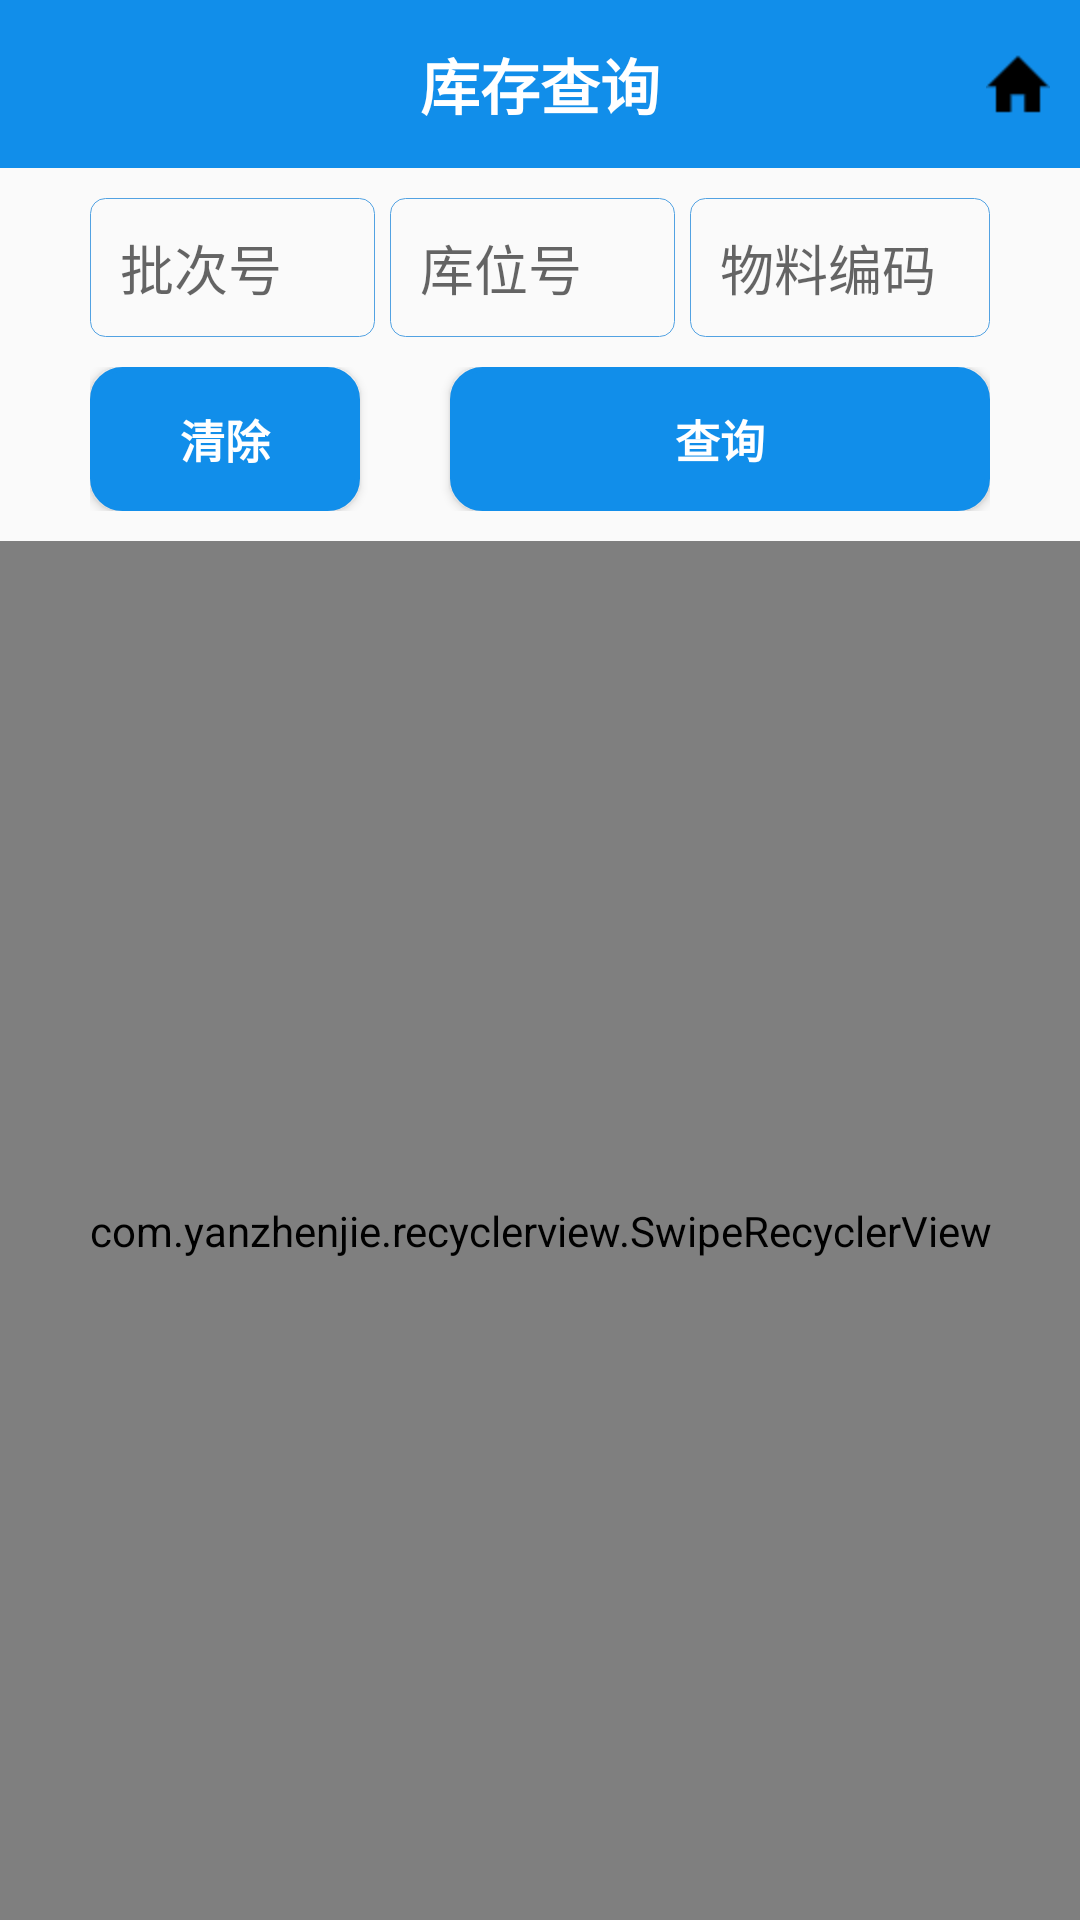

Named icons in this screenshot (1080px x 1920px) and their centers, (x=x, y=y):
home: (x=1018, y=84)
